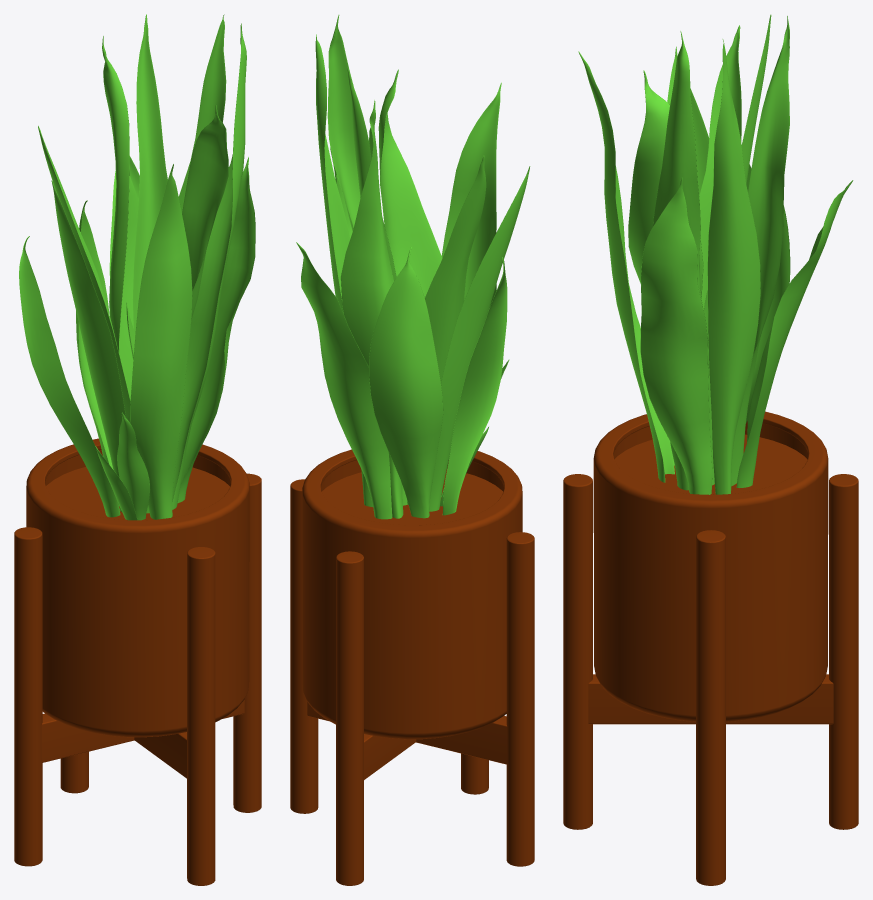
3 renders of one model, left to right at view 1: azimuth 30°, elevation 25°; view 2: azimuth 150°, elevation 25°; view 3: azimuth 270°, elevation 25°, orthographic. The views are drawn at different scales.
Visible parts, largest first — view 1: Flower_pot, Plant; view 2: Flower_pot, Plant; view 3: Flower_pot, Plant.
Part boxes in pixels (<box>): Flower_pot: <box>14,438,261,885</box>; Plant: <box>19,14,255,520</box>; Flower_pot: <box>290,449,534,885</box>; Plant: <box>296,15,530,519</box>; Flower_pot: <box>563,411,858,885</box>; Plant: <box>578,14,853,494</box>.
Size of the model in its own units: 0.2736 by 0.8569 by 0.2736.
